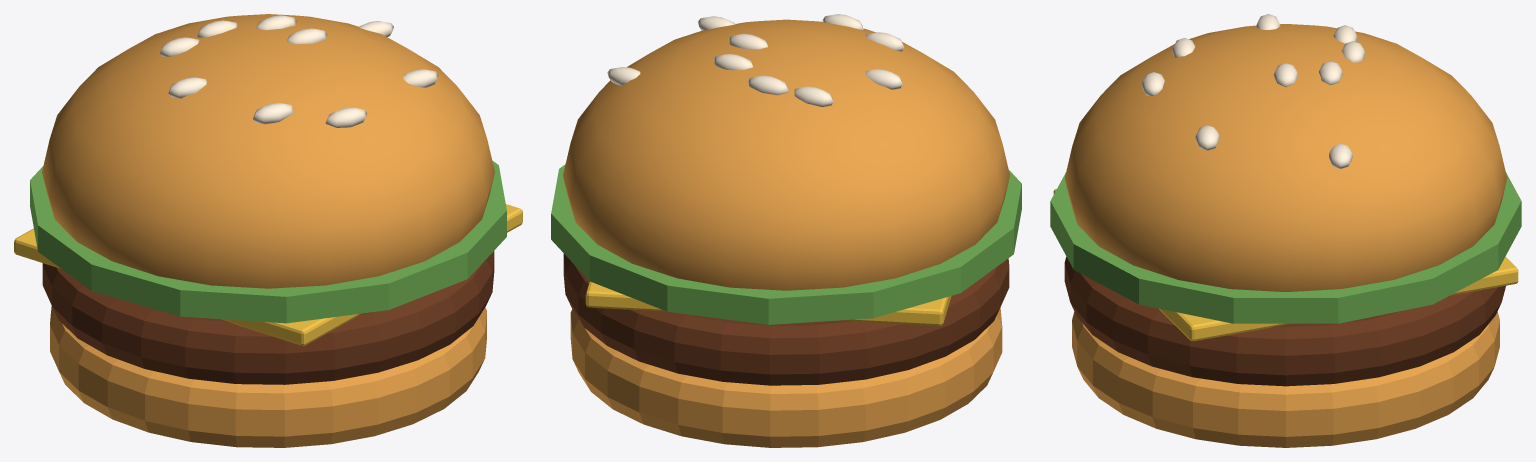
The model's file is burger.glb.
3 views of the same model, side by side, from view 1: azimuth 30°, elevation 25°; view 2: azimuth 150°, elevation 25°; view 3: azimuth 270°, elevation 25° (orthographic). The views are drawn at different scales.
Parts seen in each view (by area): view 1: bunTop, bunBottom, patty, lettuce, cheese, seed2, seed7, seed4, seed5, seed1, seed0; view 2: bunTop, bunBottom, patty, lettuce, cheese, seed1, seed6, seed4, seed3, seed0; view 3: bunTop, bunBottom, patty, lettuce, cheese, seed5, seed8.
Boxes of the visible parts, bbox=[...] form: bunTop: bbox=[42, 14, 494, 288]; bunBottom: bbox=[50, 306, 486, 447]; patty: bbox=[42, 251, 494, 384]; lettuce: bbox=[30, 160, 506, 323]; cheese: bbox=[14, 204, 522, 345]; seed2: bbox=[325, 107, 367, 127]; seed7: bbox=[253, 103, 292, 124]; seed4: bbox=[168, 77, 206, 98]; seed5: bbox=[403, 69, 438, 87]; seed1: bbox=[160, 37, 199, 56]; seed0: bbox=[287, 28, 327, 44]; bunTop: bbox=[563, 19, 1009, 290]; bunBottom: bbox=[570, 307, 1002, 447]; patty: bbox=[563, 253, 1009, 385]; lettuce: bbox=[551, 164, 1021, 324]; cheese: bbox=[585, 281, 951, 325]; seed1: bbox=[794, 86, 833, 106]; seed6: bbox=[748, 75, 788, 95]; seed4: bbox=[865, 69, 902, 89]; seed3: bbox=[713, 54, 752, 70]; seed0: bbox=[728, 33, 767, 49]; bunTop: bbox=[1064, 24, 1507, 291]; bunBottom: bbox=[1072, 312, 1499, 447]; patty: bbox=[1064, 256, 1505, 386]; lettuce: bbox=[1050, 172, 1521, 323]; cheese: bbox=[1053, 189, 1518, 341]; seed5: bbox=[1195, 125, 1219, 150]; seed8: bbox=[1329, 143, 1352, 168].
Bounding box in the file's own units: 0.6514 × 0.4896 × 0.66.
